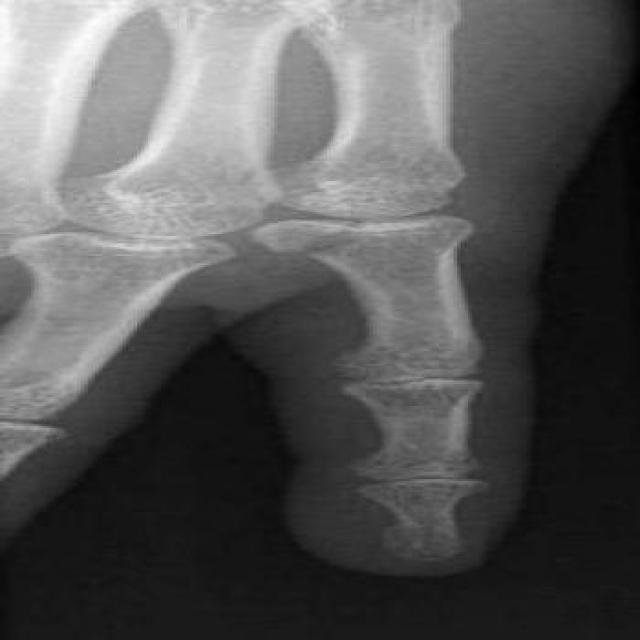Fracture: (234, 209, 375, 255)
